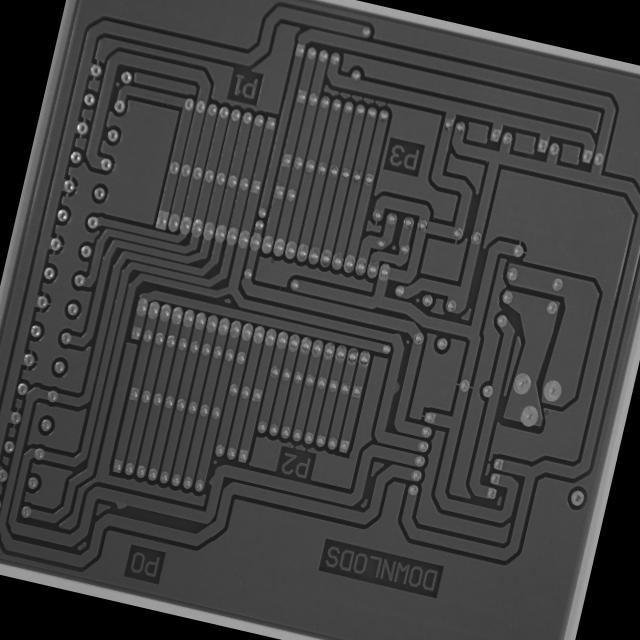spur: (387, 374, 404, 402), (110, 495, 132, 515), (206, 470, 220, 491)
